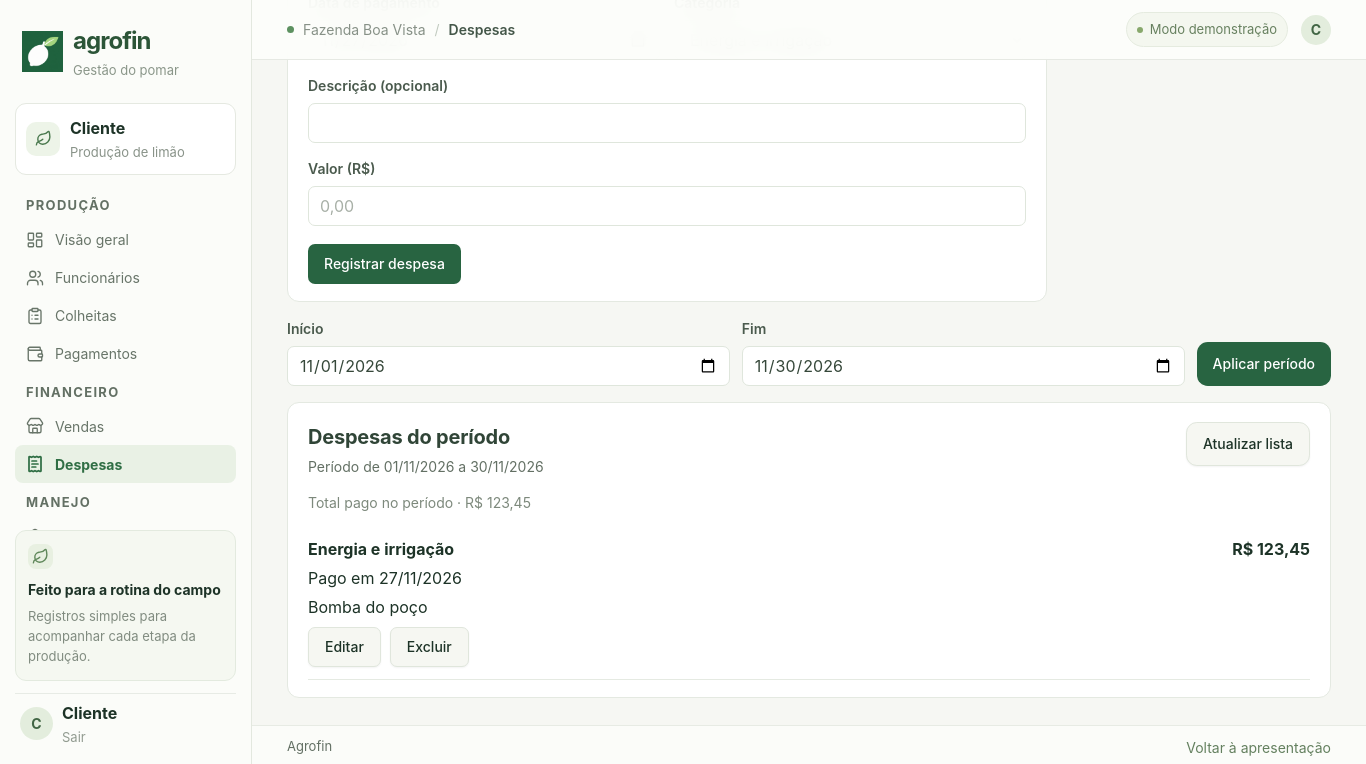
Test: mostra uma despesa indisponível sem confirmar a exclusão
The width and height of the screenshot is (1366, 764).
(page scrolled)
Check: the text "Bomba do poço" is shown, box [308,597,428,617]
Click the button "Excluir": (429, 647) [390,627,469,667]
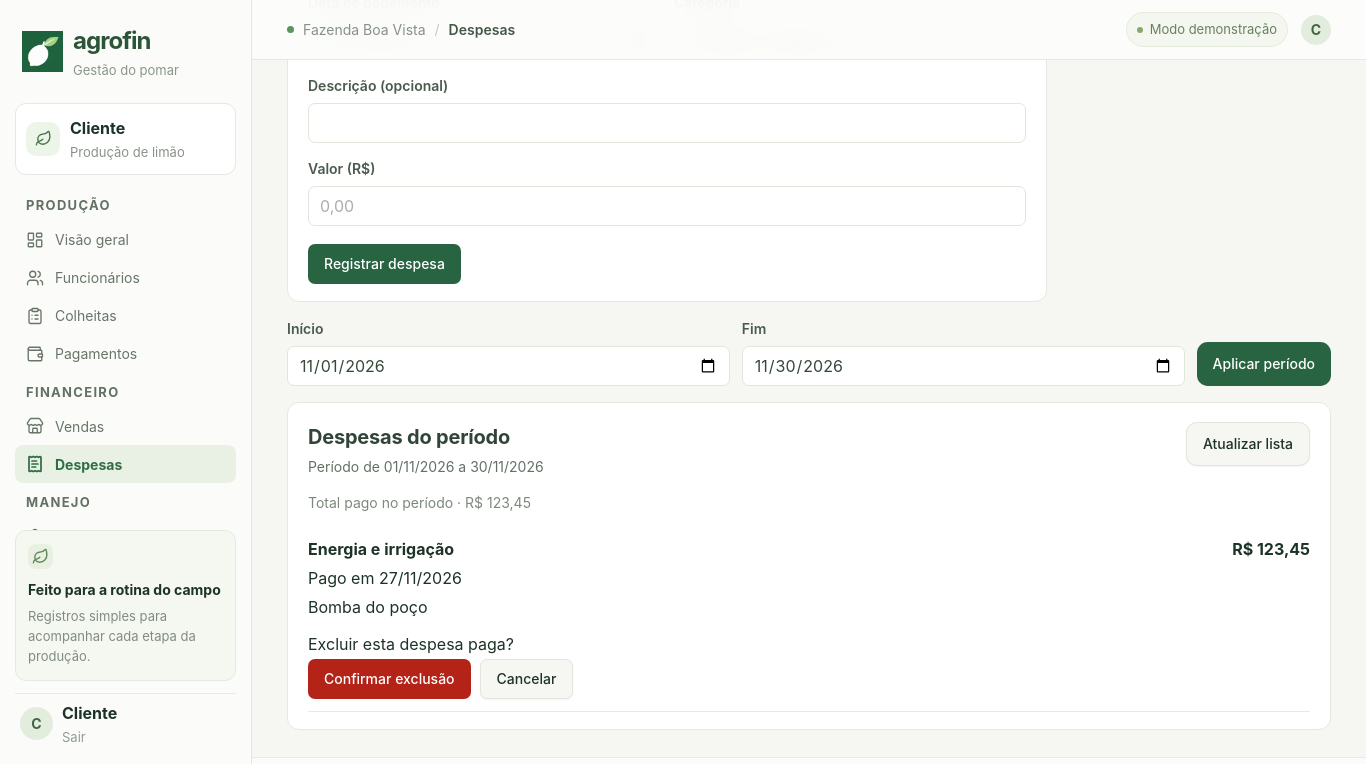
Click the button "Confirmar exclusão": (389, 679) [308,659,470,699]
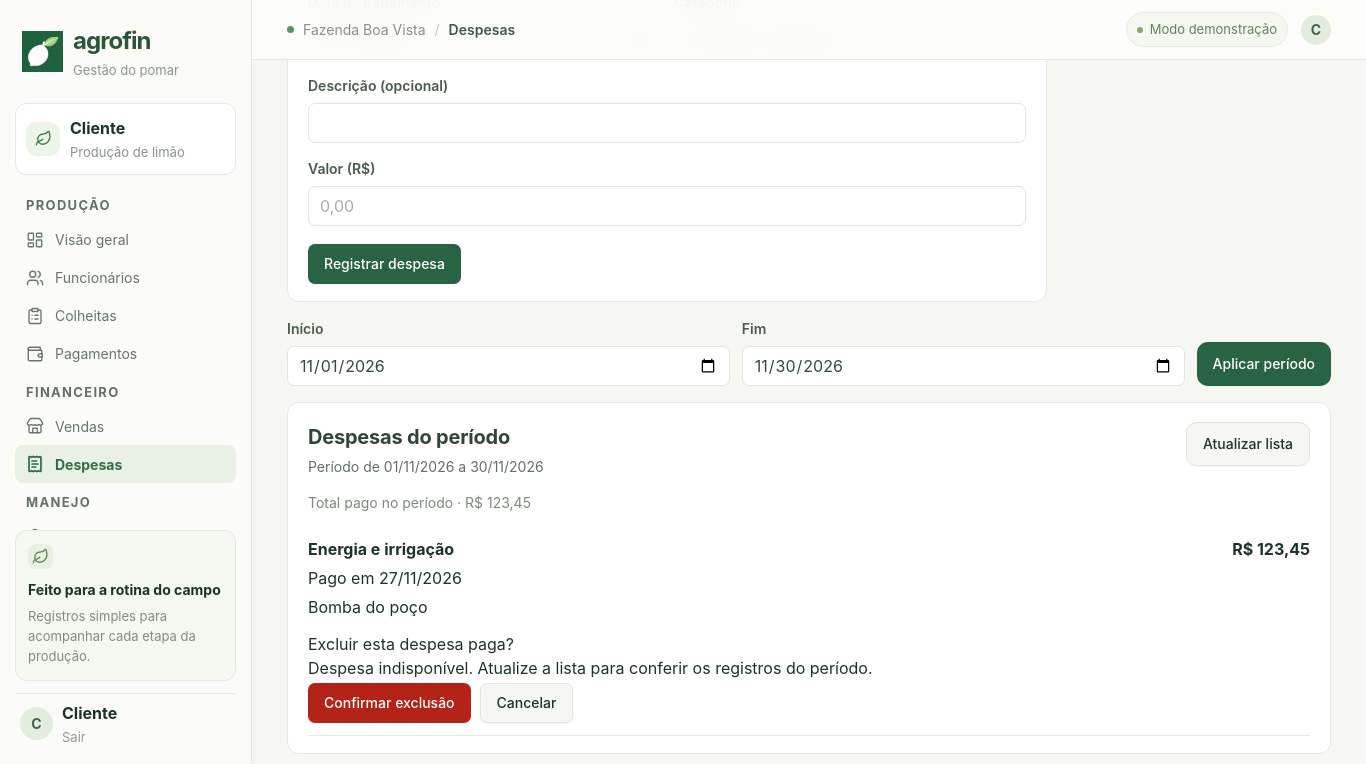
Check: the button "Atualizar lista" is enabled, box [1186,422,1310,466]
Check: the message shows "Despesa indisponível", box [308,658,872,678]
